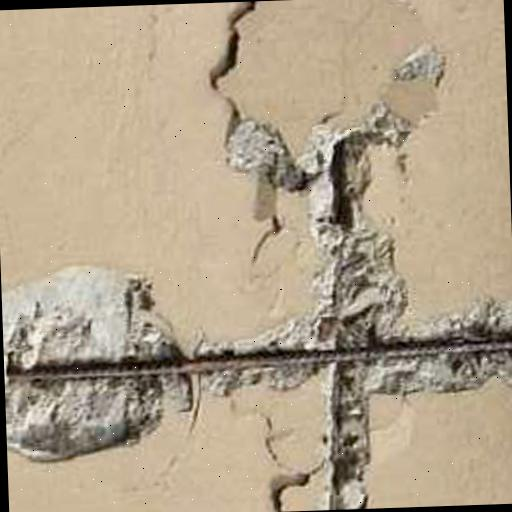spalling: (7, 54, 509, 508)
